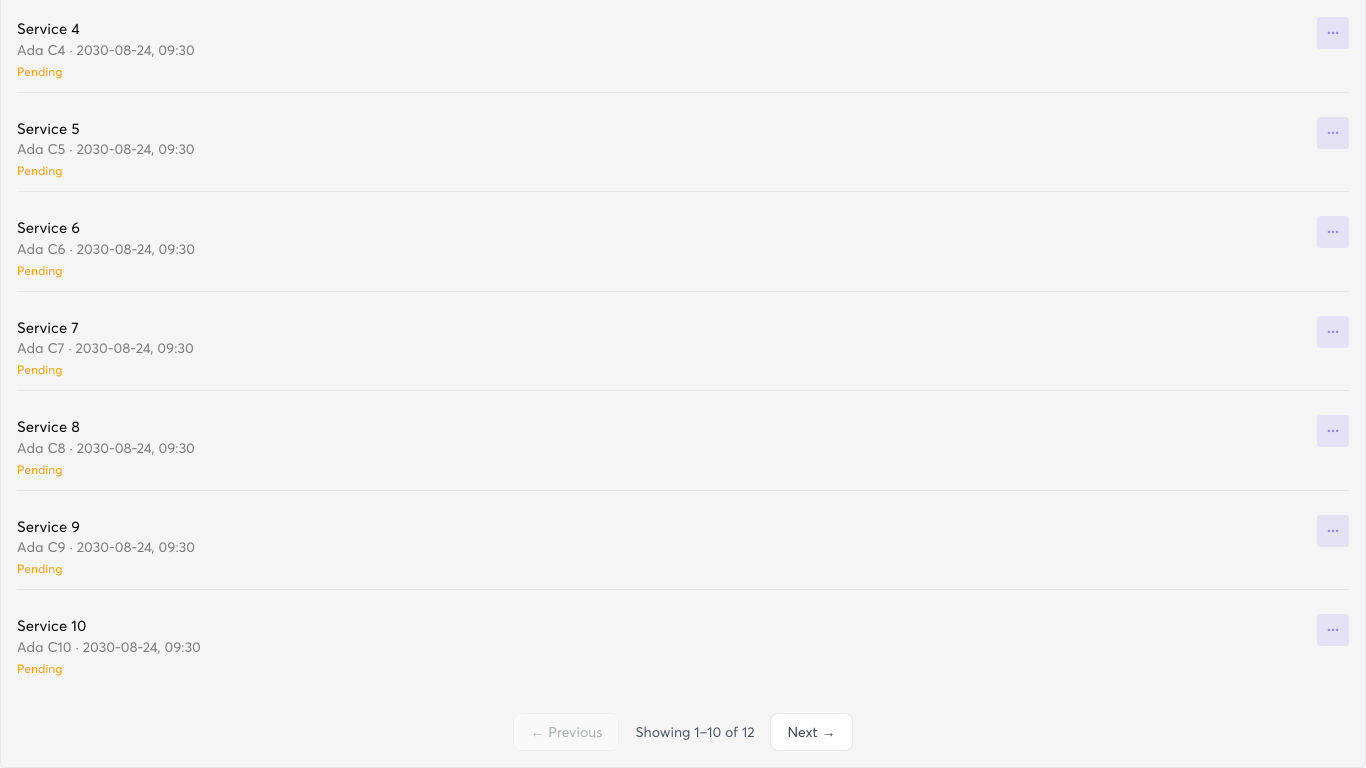
Test: paginates the pending appointment list at 10 per page
This screenshot has width=1366, height=768.
(page scrolled)
Check: the text "Showing 1–10 of 12" is shown, box [635,722,754,742]
Check: the text "Service 11" is not shown
Click the button "Next →".
click(812, 732)  # box [770,712,853,750]
(page scrolled)
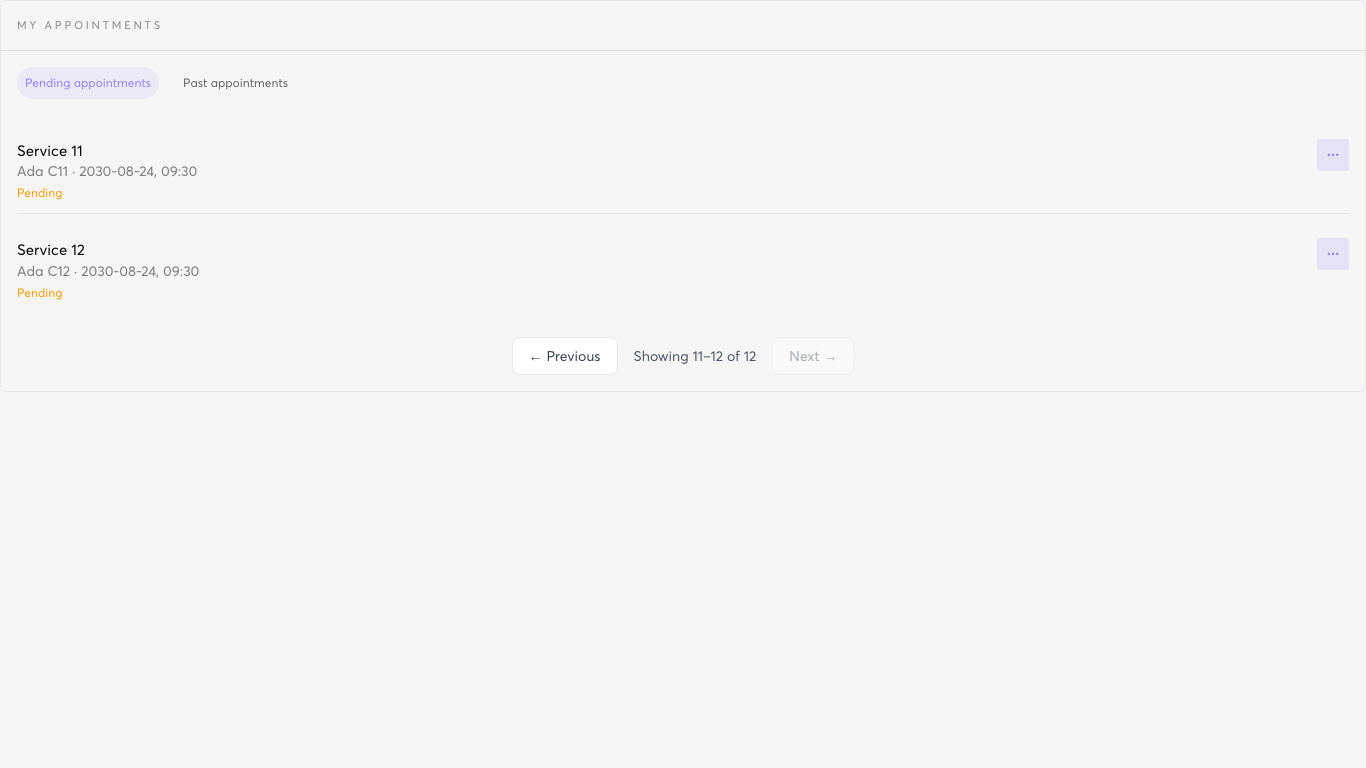
Check: the text "Showing 11–12 of 12" is shown, box [634,346,756,366]
Check: the text "Service 12" is shown, box [17,240,85,258]
